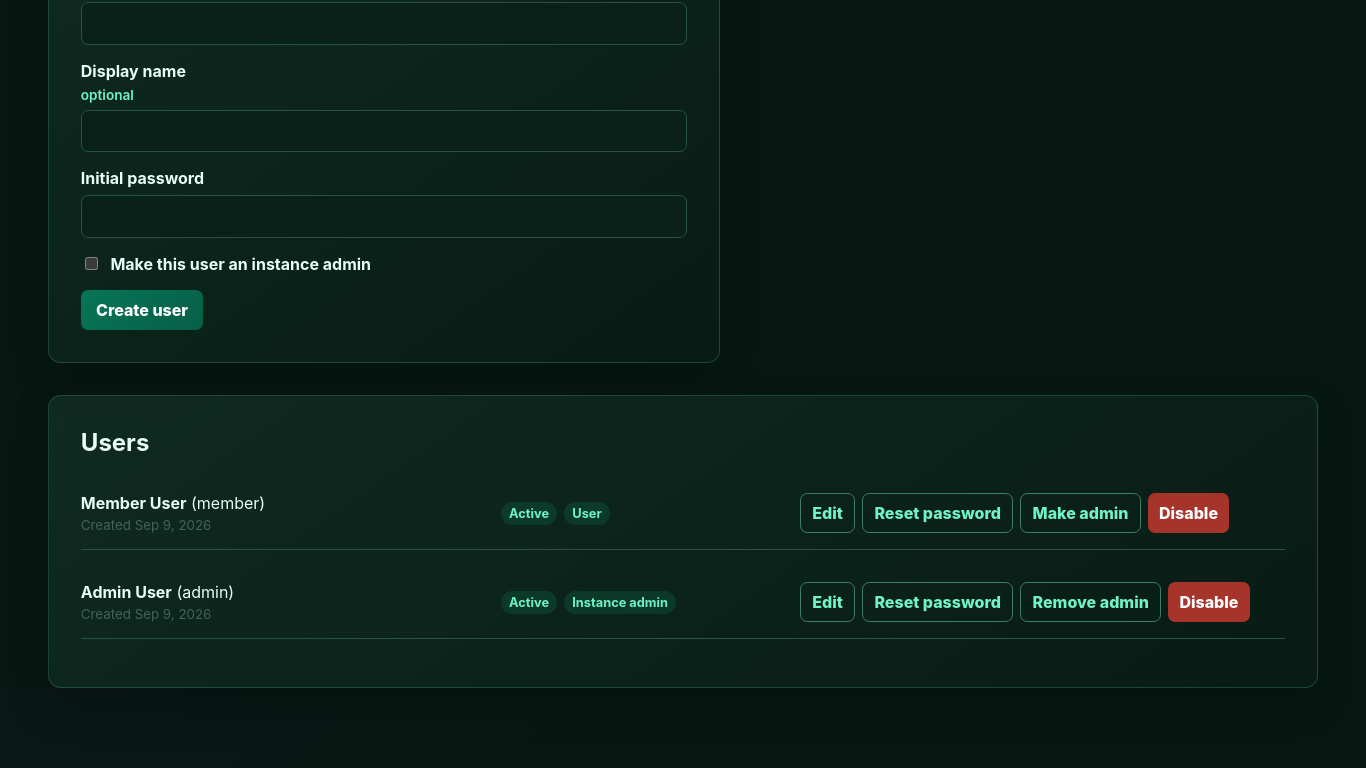
Scenario: AdminUsersView › shows the backend last-admin protection response
(page scrolled)
Click the button "Remove admin": coordinates (1091, 602) [1020,582,1161,622]
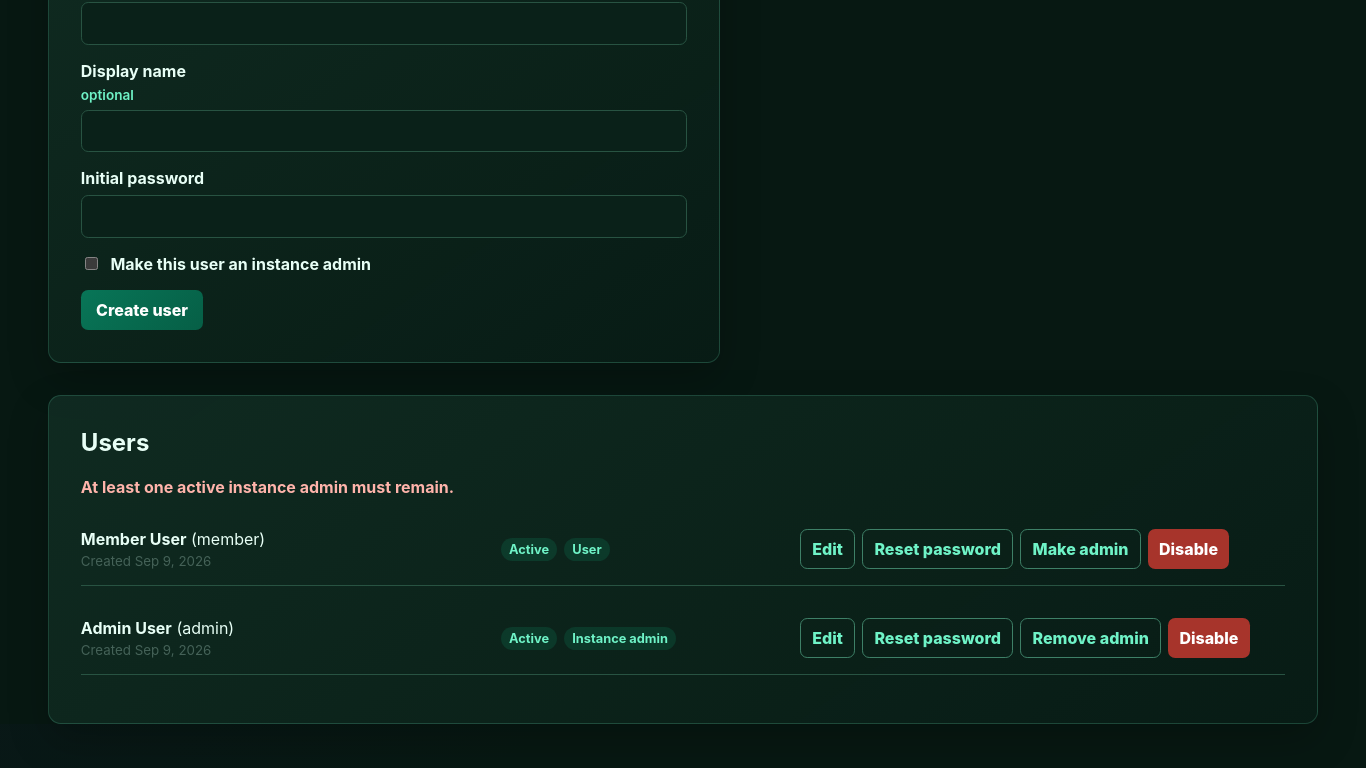
Expected: the message "At least one active instance admin must remain." is shown, [81,477,454,497]
